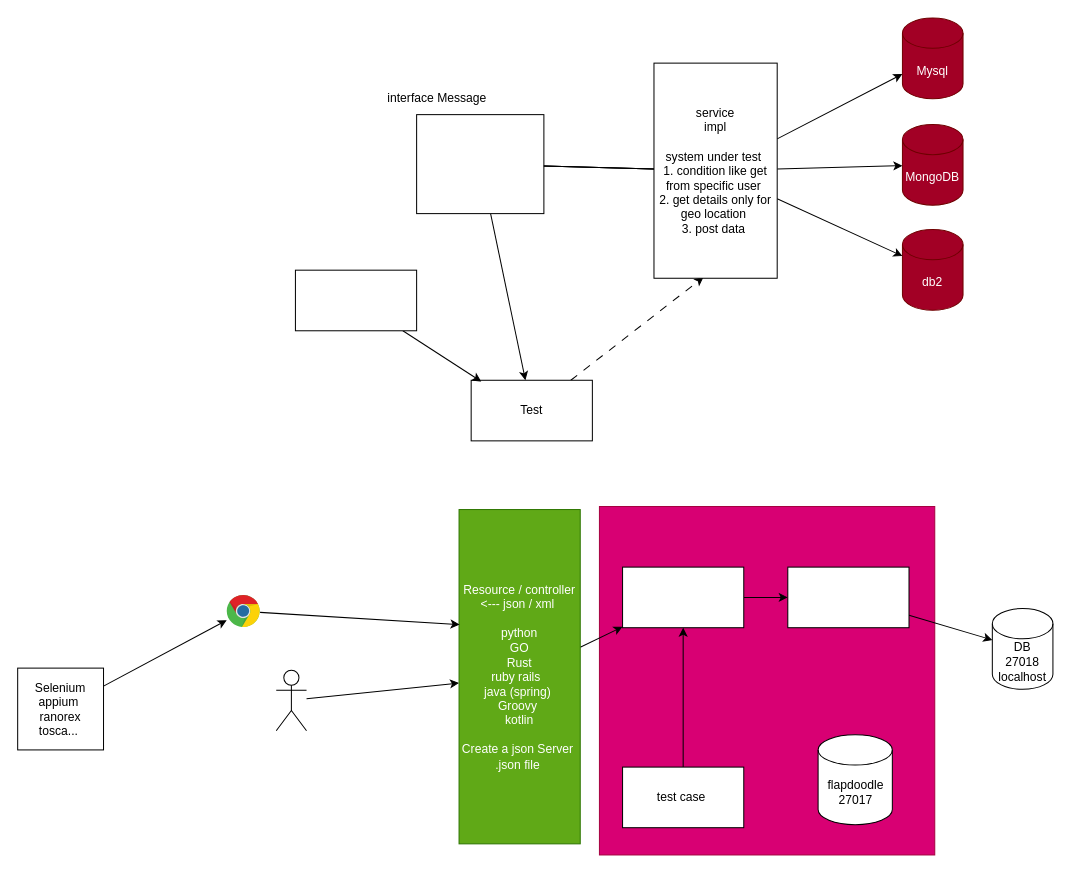
Some shapes in this 1071 by 873 pixel diagram are drawn without their labels. The shapes that lost their labels are listed below. From the top down, each one's box as (x1, y1, x2, y2) in pixels, then its label:
(416, 114, 544, 214): List<String> getMessage(user);
(294, 269, 417, 331): stub
(622, 566, 744, 628): Service Layer who does validation + checking
(787, 566, 909, 628): Repo / JPA extending MongoRepository
(275, 669, 307, 731): Postman + RestAssured httpclient ARC ....
